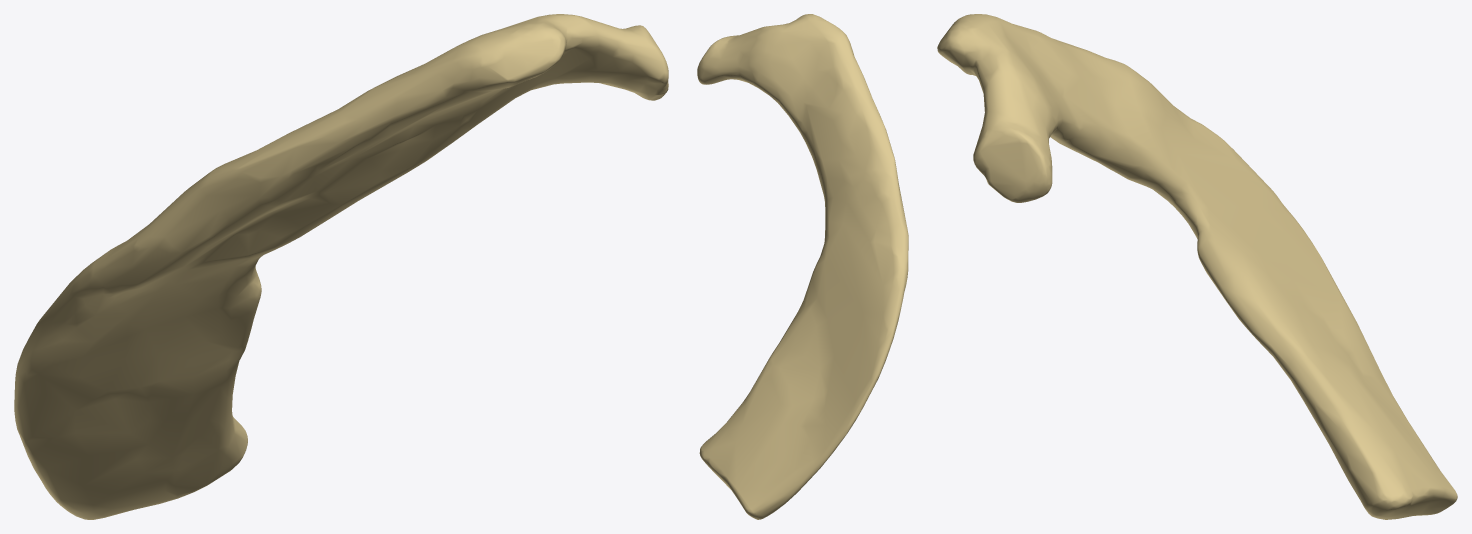
3 renders of one model, left to right at view 1: azimuth 30°, elevation 25°; view 2: azimuth 150°, elevation 25°; view 3: azimuth 270°, elevation 25°, orthographic. The views are drawn at different scales.
Visible parts, largest first — view 1: 右侧第一肋; view 2: 右侧第一肋; view 3: 右侧第一肋.
Part boxes in pixels (x1,y1,x2,y2): 右侧第一肋: (14,14,668,519); 右侧第一肋: (697,14,908,519); 右侧第一肋: (937,14,1457,519).
Bounding box in the file's own units: 0.0809 × 0.1041 × 0.0875.
